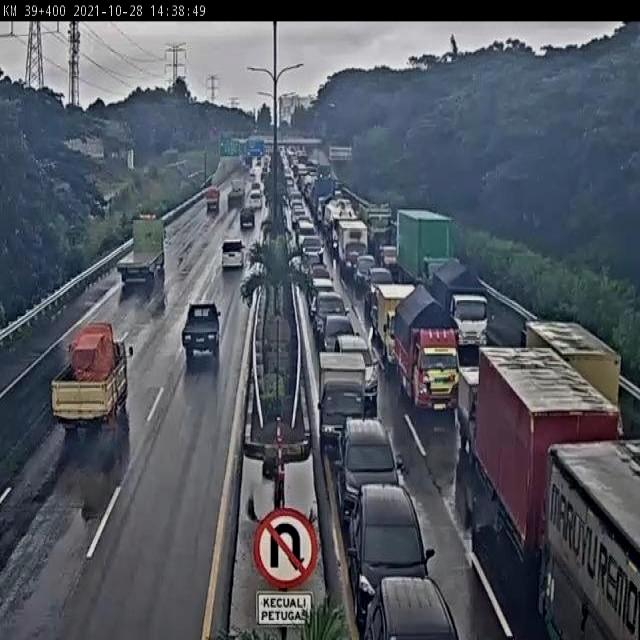Car: (344, 484, 436, 634), (337, 417, 402, 522), (333, 334, 382, 401), (321, 313, 356, 357), (314, 291, 347, 337), (309, 275, 337, 318), (368, 266, 394, 303), (353, 253, 376, 291), (297, 236, 326, 262), (300, 251, 322, 279), (308, 262, 334, 281), (380, 245, 398, 272), (297, 220, 316, 245), (302, 176, 317, 204), (240, 207, 256, 230), (291, 207, 309, 226), (248, 188, 263, 210), (250, 179, 262, 194), (256, 154, 263, 165)
Truck: (471, 345, 620, 569), (541, 436, 640, 640), (522, 320, 625, 411), (392, 283, 463, 413), (51, 322, 130, 436), (431, 256, 492, 357), (395, 205, 458, 286), (317, 350, 367, 442), (373, 278, 419, 365), (114, 211, 166, 285), (181, 302, 221, 361), (332, 217, 369, 280), (457, 362, 481, 455), (355, 199, 391, 249), (320, 196, 342, 239), (312, 175, 336, 213), (227, 178, 247, 209), (206, 187, 220, 214), (244, 154, 253, 169)
Van: (221, 238, 245, 268)
